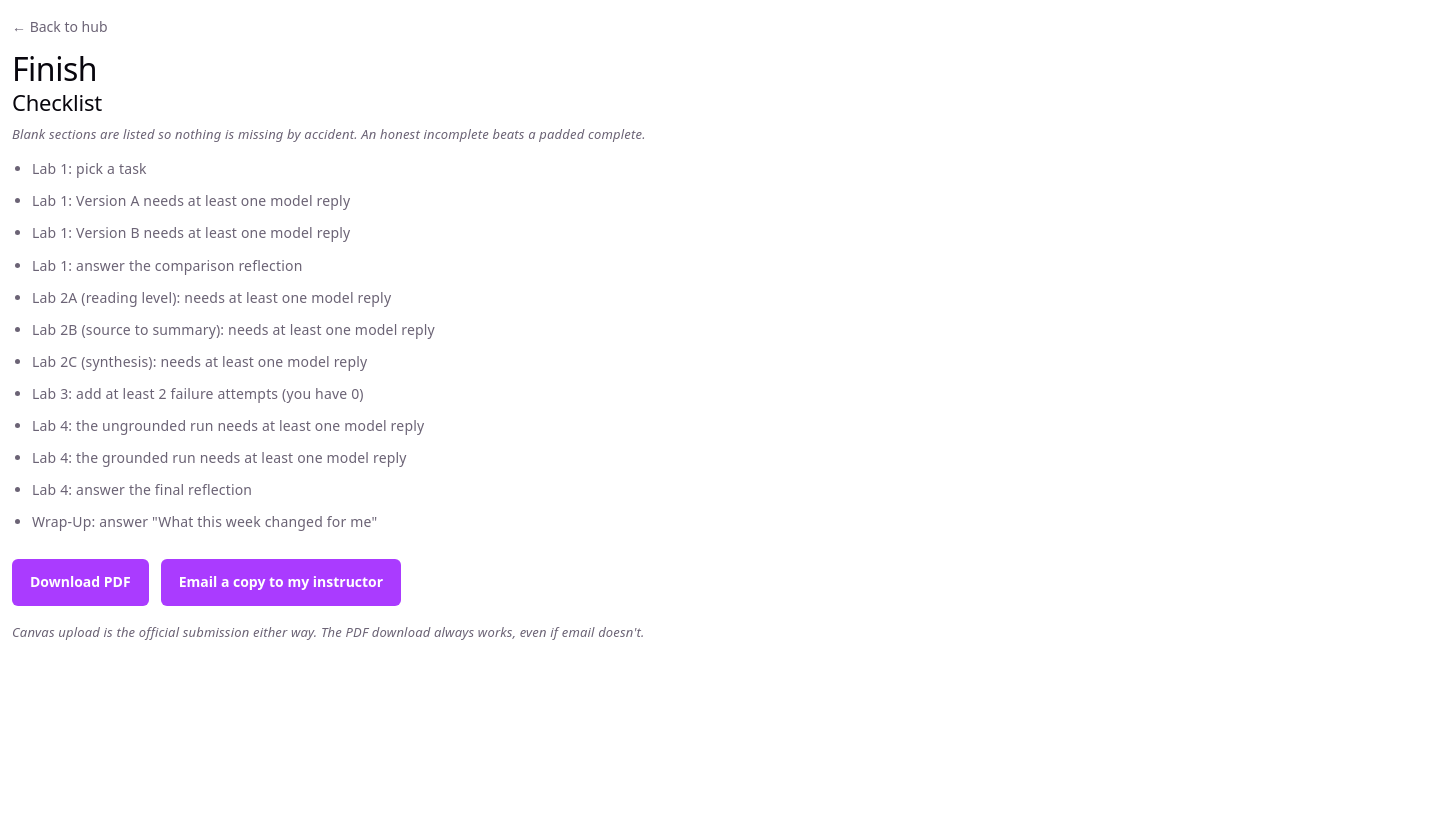
Test case: Finish — email submission › shows the fallback message when the email request fails
Click the button "Email a copy to my instructor" at point(281, 582), box top-left (161, 559), bottom-right (401, 606)
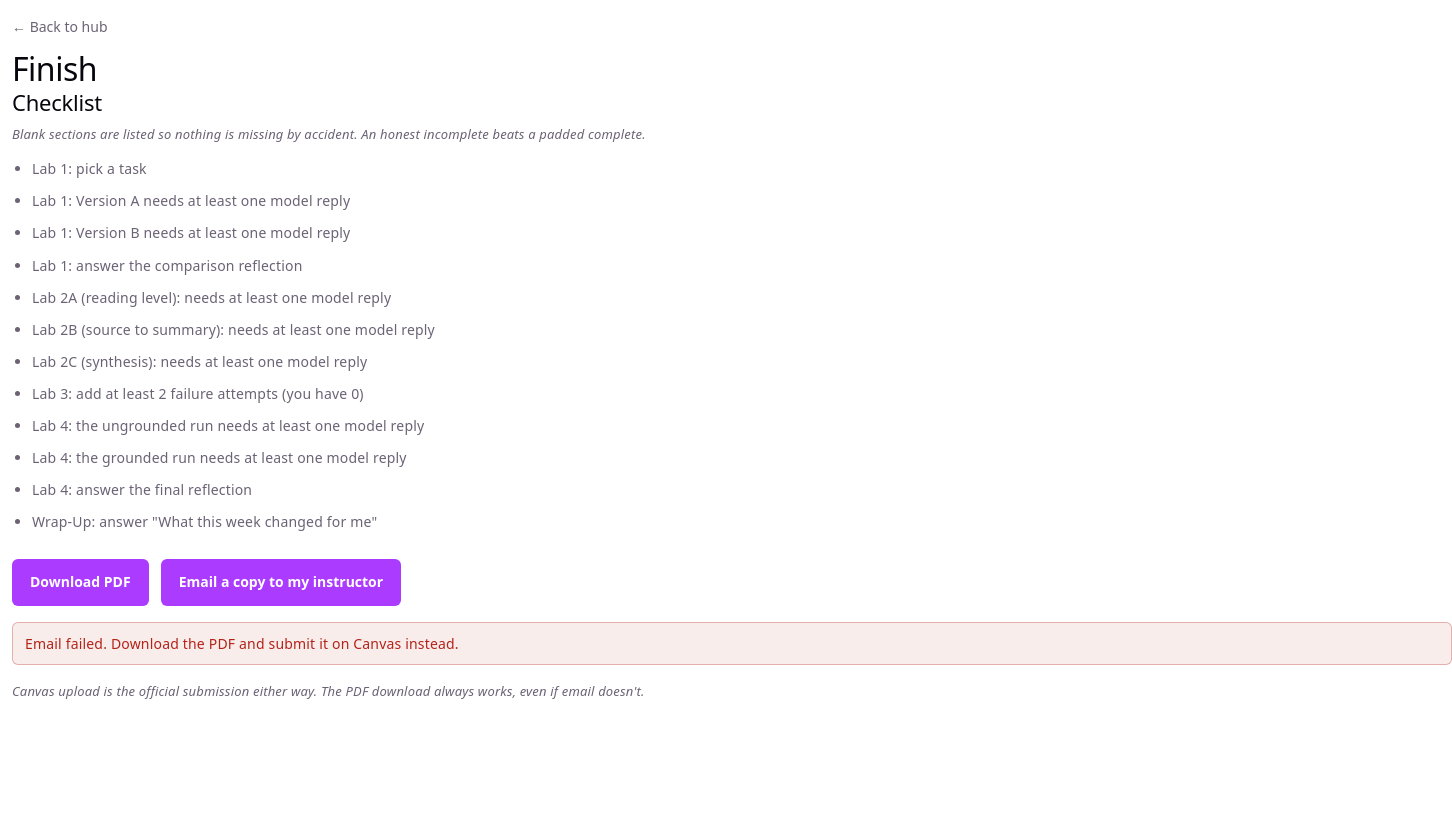
Check: the text "Email failed. Download the PDF and submit it on Canvas instead." is shown, box top-left (12, 622), bottom-right (1451, 665)
